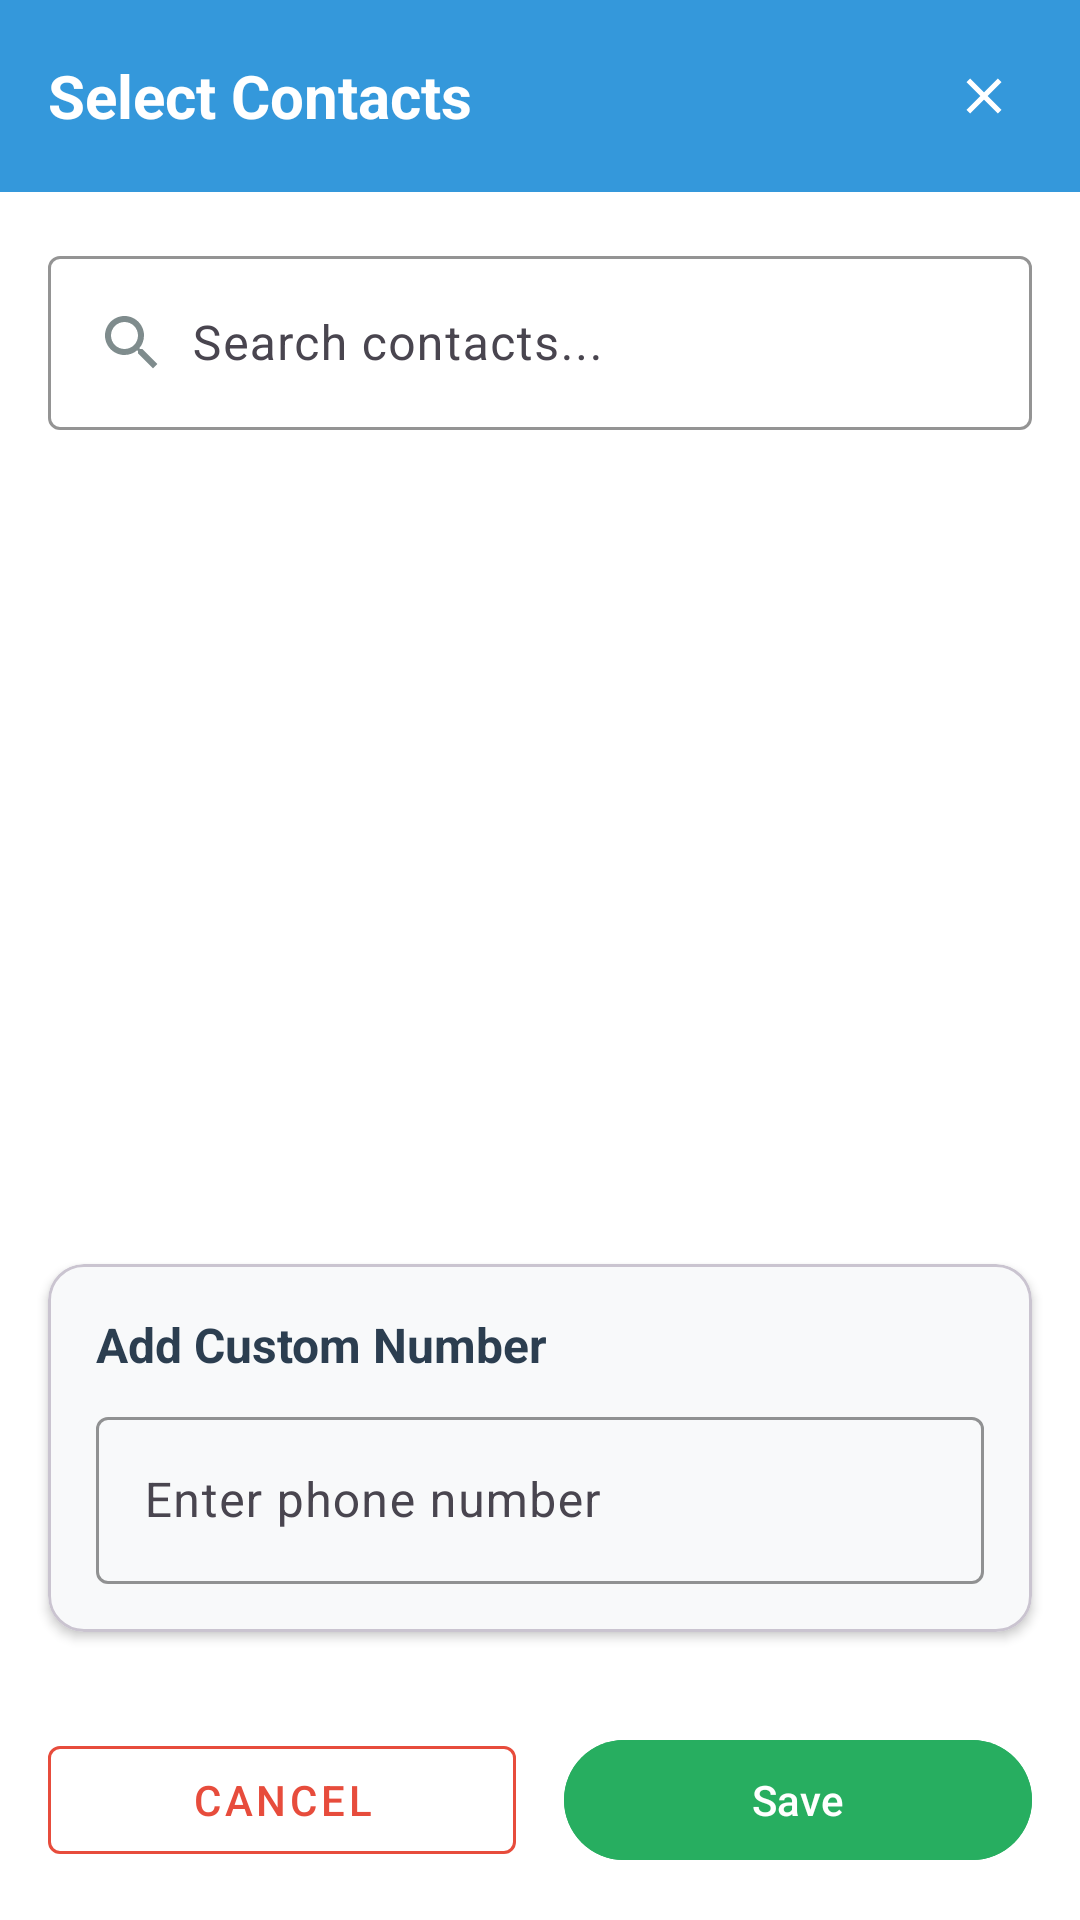

Where icons sit on this 1080*1920 app screen, as (x1, y1, x2, y2):
Close dialog: (966, 78, 1002, 114)
